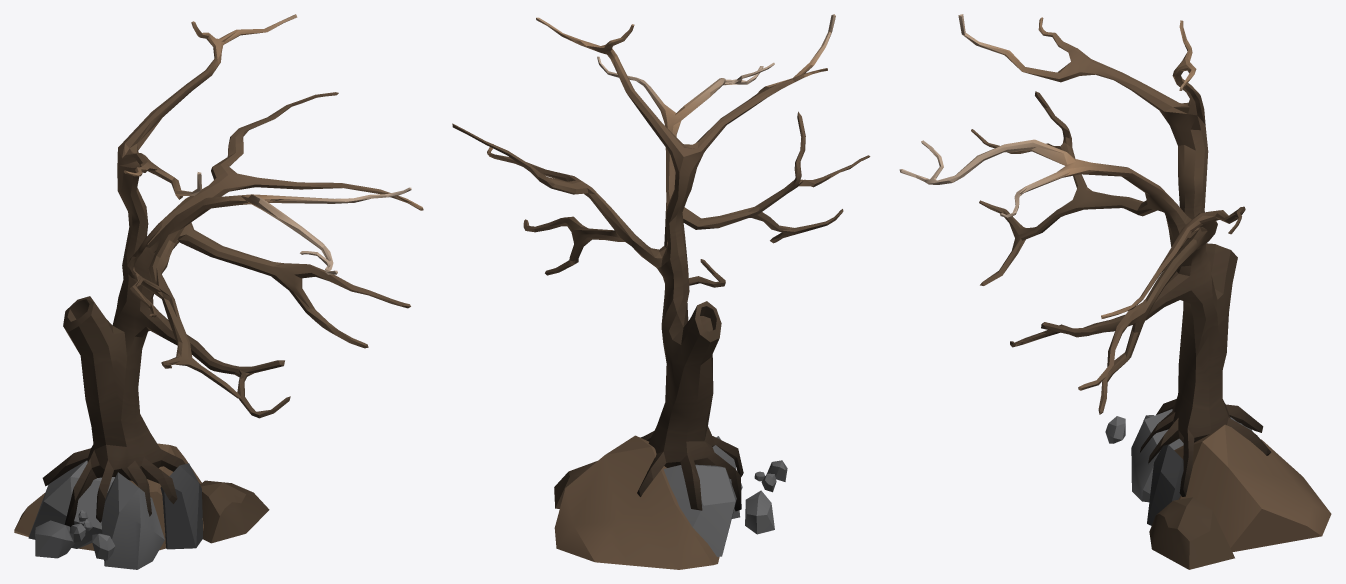
Rendered from ea03_environment_nature_tree_1b_pre_6.002_lev2.glb.
3 renders of one model, left to right at view 1: azimuth 30°, elevation 25°; view 2: azimuth 150°, elevation 25°; view 3: azimuth 270°, elevation 25°, orthographic. The views are drawn at different scales.
Parts seen in each view (by area): view 1: ea03_environment_nature_tree_1b_pre_6.002_lev2; view 2: ea03_environment_nature_tree_1b_pre_6.002_lev2; view 3: ea03_environment_nature_tree_1b_pre_6.002_lev2.
Boxes of the visible parts, left/top/right/bottom form: ea03_environment_nature_tree_1b_pre_6.002_lev2: left=14, top=14, right=423, bottom=569; ea03_environment_nature_tree_1b_pre_6.002_lev2: left=452, top=14, right=870, bottom=569; ea03_environment_nature_tree_1b_pre_6.002_lev2: left=899, top=14, right=1331, bottom=569.
Bounding box in the file's own units: 18.67 × 26.36 × 20.24.
Materials: 1 (1 with a texture image).
